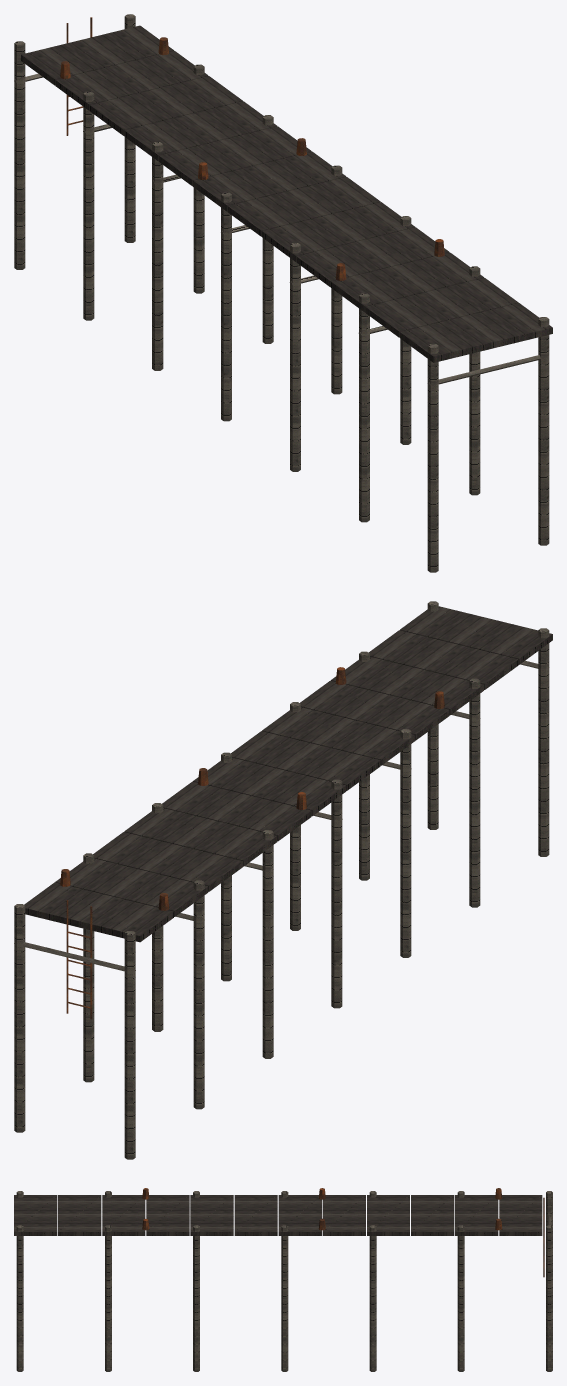
File: embarcadero.obj
3 views of the same model, one above another, from view 1: azimuth 30°, elevation 25°; view 2: azimuth 150°, elevation 25°; view 3: azimuth 270°, elevation 25° (orthographic). The views are drawn at different scales.
Visible parts, largest first — view 1: embarcadero; view 2: embarcadero; view 3: embarcadero.
Boxes of the visible parts, x1=… form: embarcadero: x1=14, y1=14, x2=552, y2=572; embarcadero: x1=14, y1=601, x2=552, y2=1159; embarcadero: x1=14, y1=1188, x2=552, y2=1371.
Size of the model in its own units: 4 by 7.6 by 24.44.
Materials: 3 (3 with a texture image).
